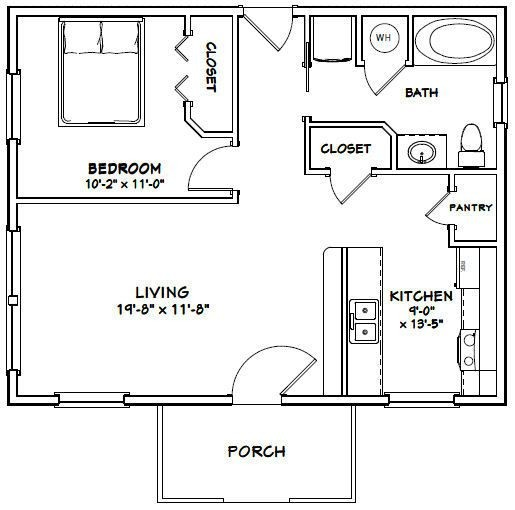door: (231, 343, 316, 389), (180, 141, 247, 199), (243, 6, 296, 55), (362, 54, 408, 99), (169, 34, 195, 100), (331, 176, 380, 209)
room: (7, 204, 320, 407), (255, 18, 507, 214), (9, 13, 258, 207), (325, 210, 506, 410)
wall: (493, 119, 513, 414), (291, 2, 511, 24), (8, 4, 248, 22), (9, 192, 243, 207), (369, 165, 504, 182), (229, 7, 244, 149), (121, 392, 237, 410), (283, 391, 390, 410), (4, 138, 21, 232), (493, 3, 510, 80), (304, 118, 389, 132), (5, 4, 21, 74), (451, 392, 509, 411), (179, 100, 206, 138), (6, 392, 60, 410), (299, 120, 314, 173), (200, 127, 238, 147), (299, 163, 335, 180), (387, 132, 400, 172), (6, 372, 21, 406), (180, 17, 195, 35)
window: (4, 232, 24, 360), (55, 393, 122, 411), (4, 72, 18, 140), (389, 393, 452, 407), (492, 86, 508, 119)
